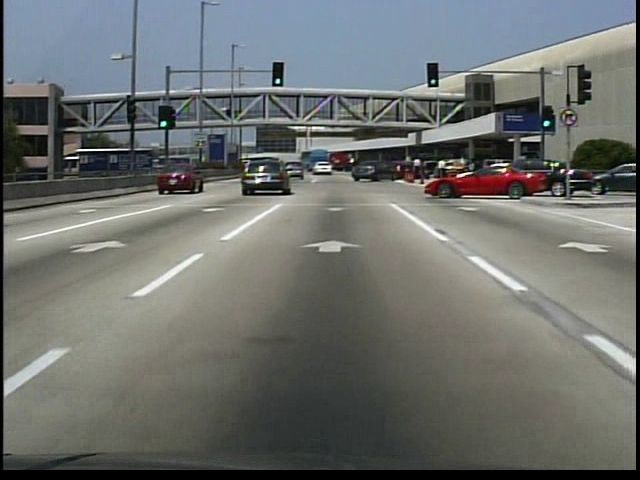person: (410, 159, 425, 187), (436, 159, 449, 181), (227, 107, 233, 122)
